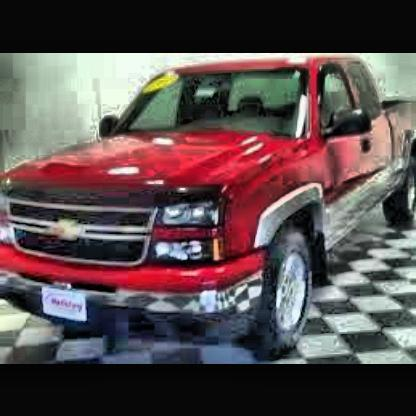Chevrolet Silverado 1500 Classic Extended Cab 2007: (4, 55, 416, 364)
